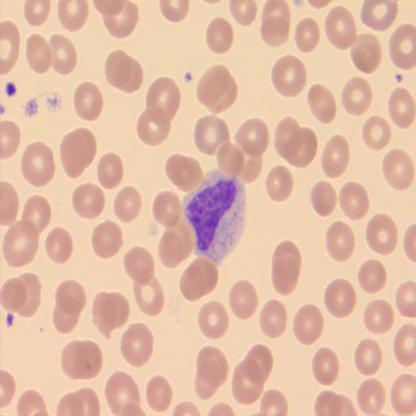Metamyelocyte: (180, 165, 250, 265)
